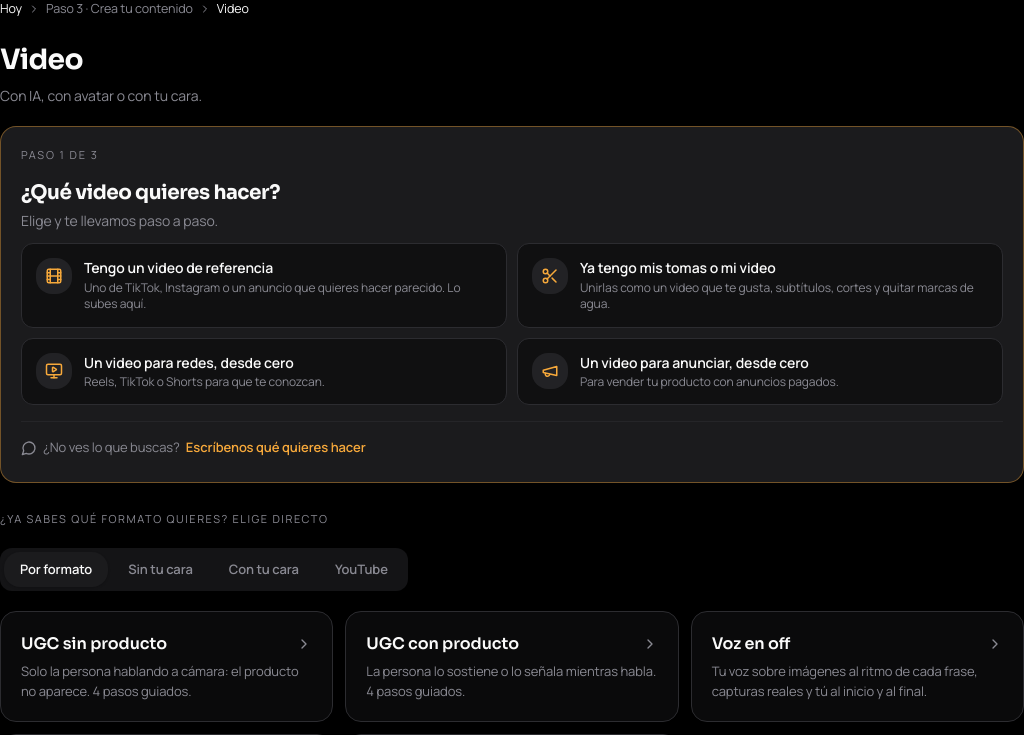
Test: Pantalla de rama y de puertas › Video: 4 puertas y recuerda la última
Later steps or results of the test are not shown.
Click the tab "Con tu cara".
click(264, 569)  # box [213,552,315,587]
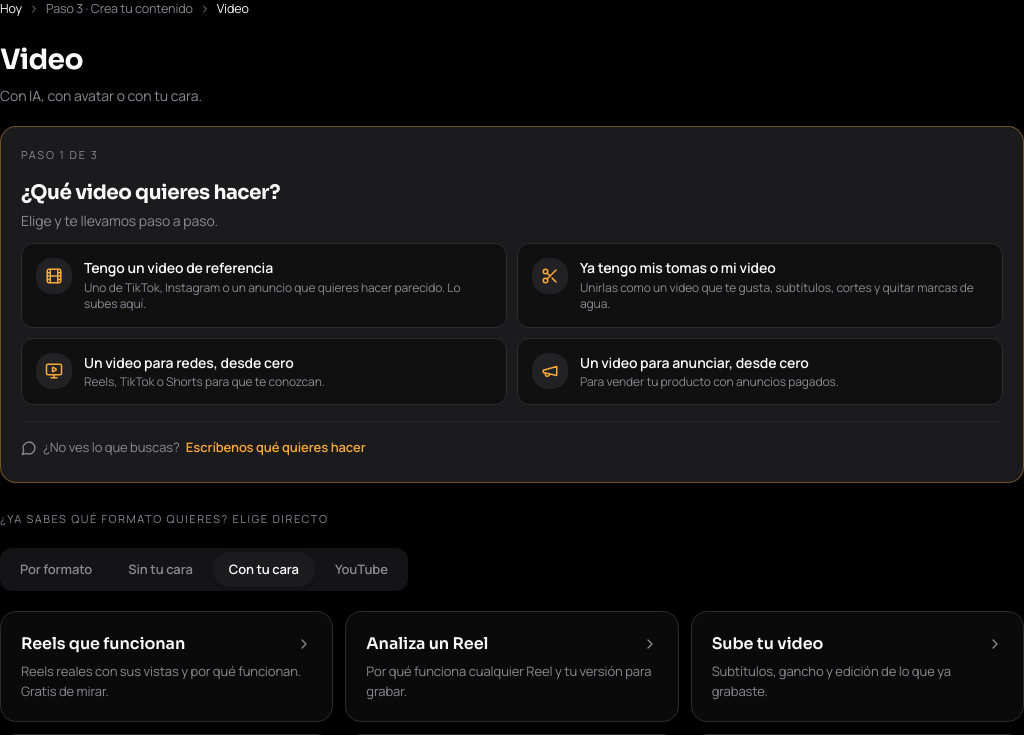
Check: the text "Analiza un Reel" is shown, box [366,632,658,656]
